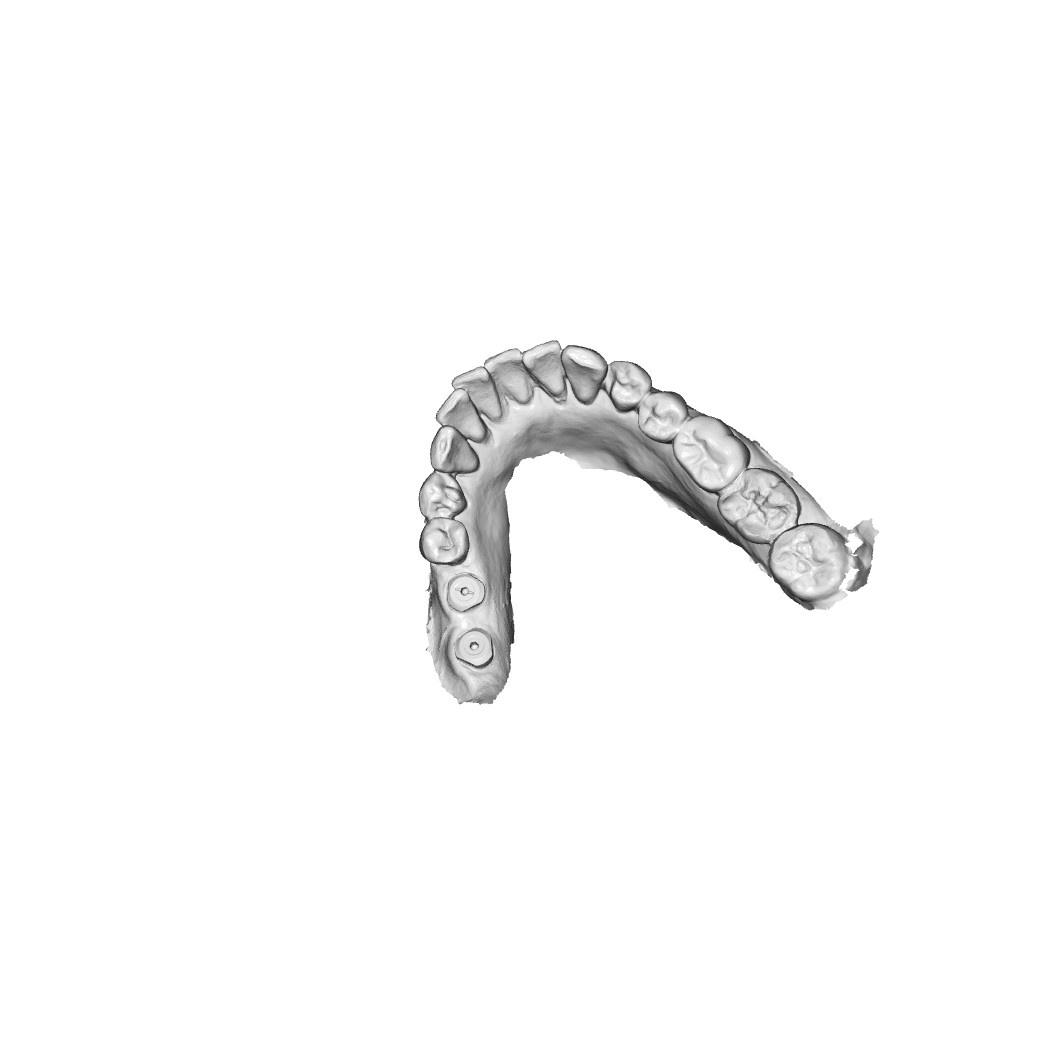canine: (558, 344, 607, 406), (426, 423, 482, 475)
implant: (456, 625, 490, 668)
implant_minus: (449, 573, 486, 610)
incisor: (451, 367, 501, 422), (485, 348, 531, 406), (523, 339, 564, 404), (438, 392, 488, 439)
molar: (764, 519, 848, 600), (716, 468, 805, 544), (670, 413, 751, 493)
premolar: (635, 390, 685, 445), (604, 359, 650, 415), (419, 469, 469, 520), (419, 518, 471, 567)
